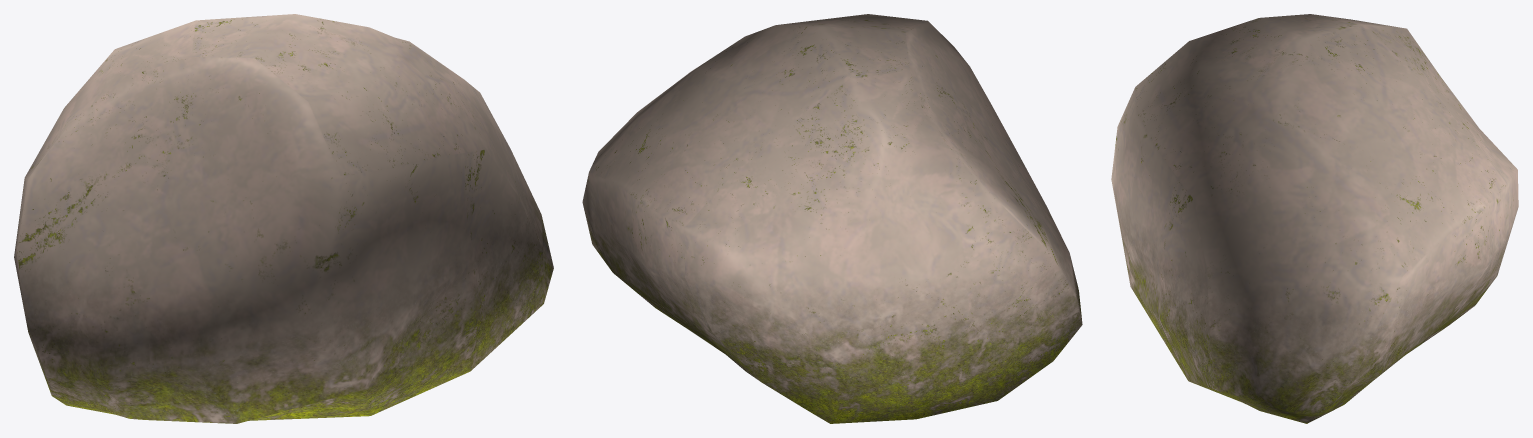
Rendered from ROK0110042.fbx.
The picture shows the model from 3 angles, left to right: view 1: azimuth 30°, elevation 25°; view 2: azimuth 150°, elevation 25°; view 3: azimuth 270°, elevation 25°; orthographic projection. The views are drawn at different scales.
Visible parts, largest first — view 1: smROK0110042; view 2: smROK0110042; view 3: smROK0110042.
Part boxes in pixels (x1,y1,x2,y2): smROK0110042: [14, 14, 553, 423]; smROK0110042: [582, 14, 1082, 423]; smROK0110042: [1111, 14, 1518, 423].
Size of the model in its own units: 262 by 185 by 205.
Materials: 1 (1 with a texture image).
